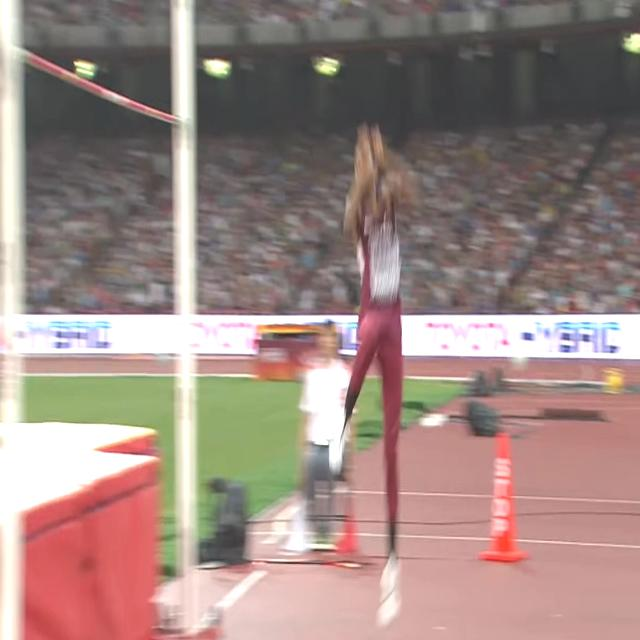jump: (328, 118, 400, 623)
